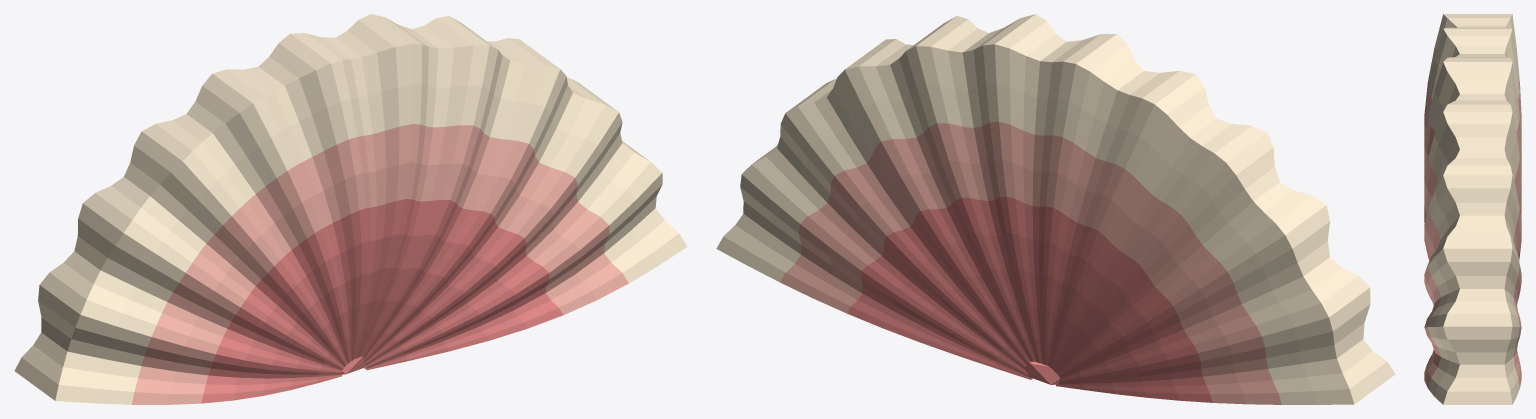
Rendered from shell-scallop.glb.
The picture shows the model from 3 angles, left to right: view 1: azimuth 30°, elevation 25°; view 2: azimuth 150°, elevation 25°; view 3: azimuth 270°, elevation 25°; orthographic projection. The views are drawn at different scales.
Visible parts, largest first — view 1: Eleven ribbed scallop fan; view 2: Eleven ribbed scallop fan; view 3: Eleven ribbed scallop fan.
Part boxes in pixels (x1=…): Eleven ribbed scallop fan: x1=14, y1=14, x2=687, y2=404; Eleven ribbed scallop fan: x1=716, y1=14, x2=1395, y2=404; Eleven ribbed scallop fan: x1=1424, y1=14, x2=1521, y2=404.
Size of the model in its own units: 2.77 by 1.42 by 0.4346.
